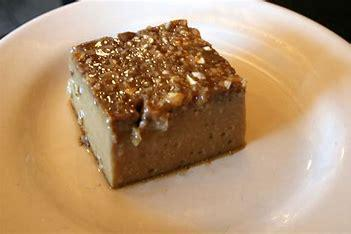Watalappam: (70, 23, 256, 175)
